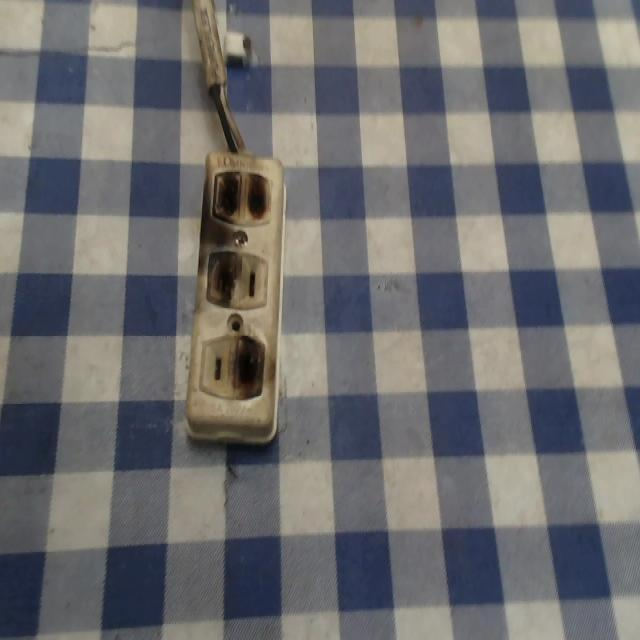-: (200, 163, 282, 232), (234, 329, 271, 403), (203, 246, 241, 306)
